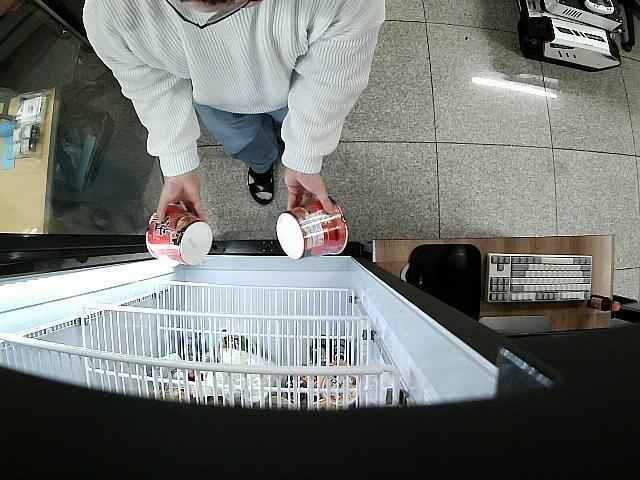01_ShinRamen_L: (274, 196, 350, 260), (144, 204, 213, 266)
